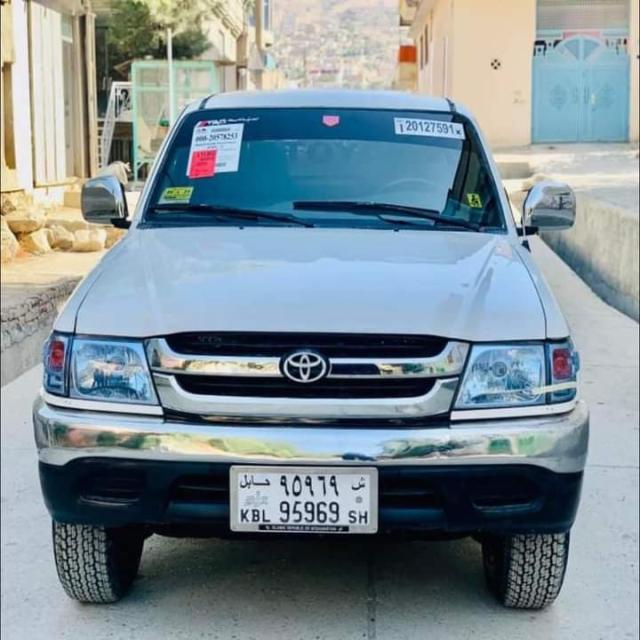Plate: (230, 468, 378, 530)
